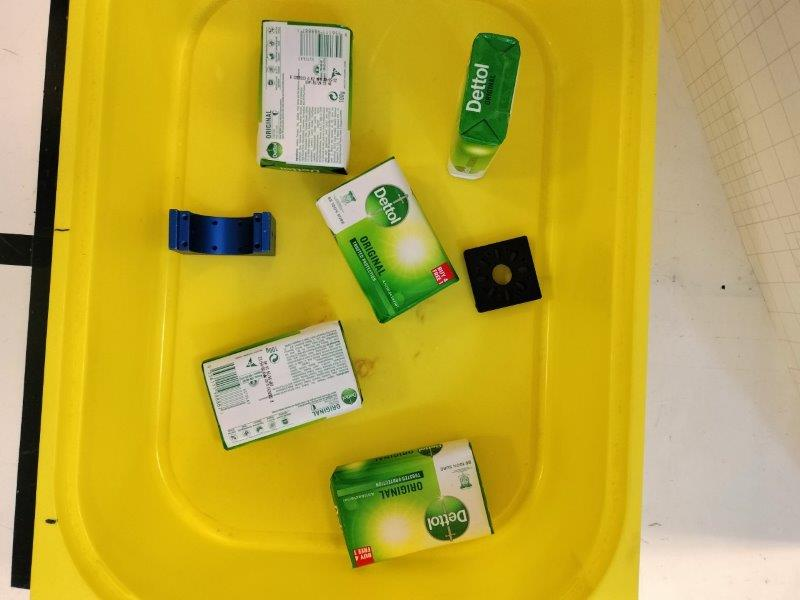Dettol: (315, 157, 458, 323), (331, 440, 496, 568), (203, 320, 365, 449), (258, 19, 353, 176), (449, 34, 522, 180)
